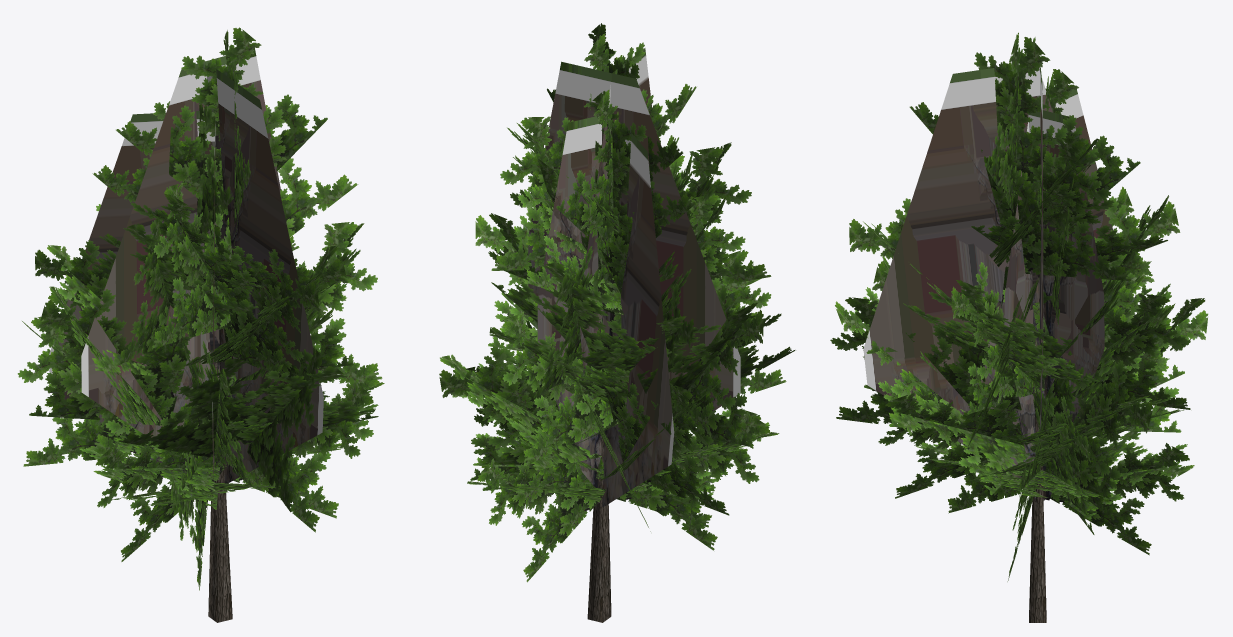
The model's file is VEG0210023.fbx.
The picture shows the model from 3 angles, left to right: view 1: azimuth 30°, elevation 25°; view 2: azimuth 150°, elevation 25°; view 3: azimuth 270°, elevation 25°; orthographic projection.
Visible parts, largest first — view 1: smVEG0210023; view 2: smVEG0210023; view 3: smVEG0210023.
Part boxes in pixels (x1,y1,x2,y2): smVEG0210023: (17, 27, 384, 622); smVEG0210023: (439, 23, 795, 622); smVEG0210023: (830, 32, 1208, 622).
Size of the model in its own units: 334 by 555 by 326.
Materials: 3 (3 with a texture image).
